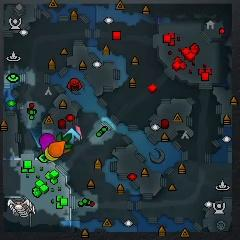p3: (40, 133, 56, 153)
p4: (45, 147, 59, 161)
p5: (49, 141, 64, 157)
x1: (75, 125, 82, 142)
x3: (63, 127, 80, 145)
x4: (56, 132, 72, 148)
x5: (63, 148, 72, 154)
